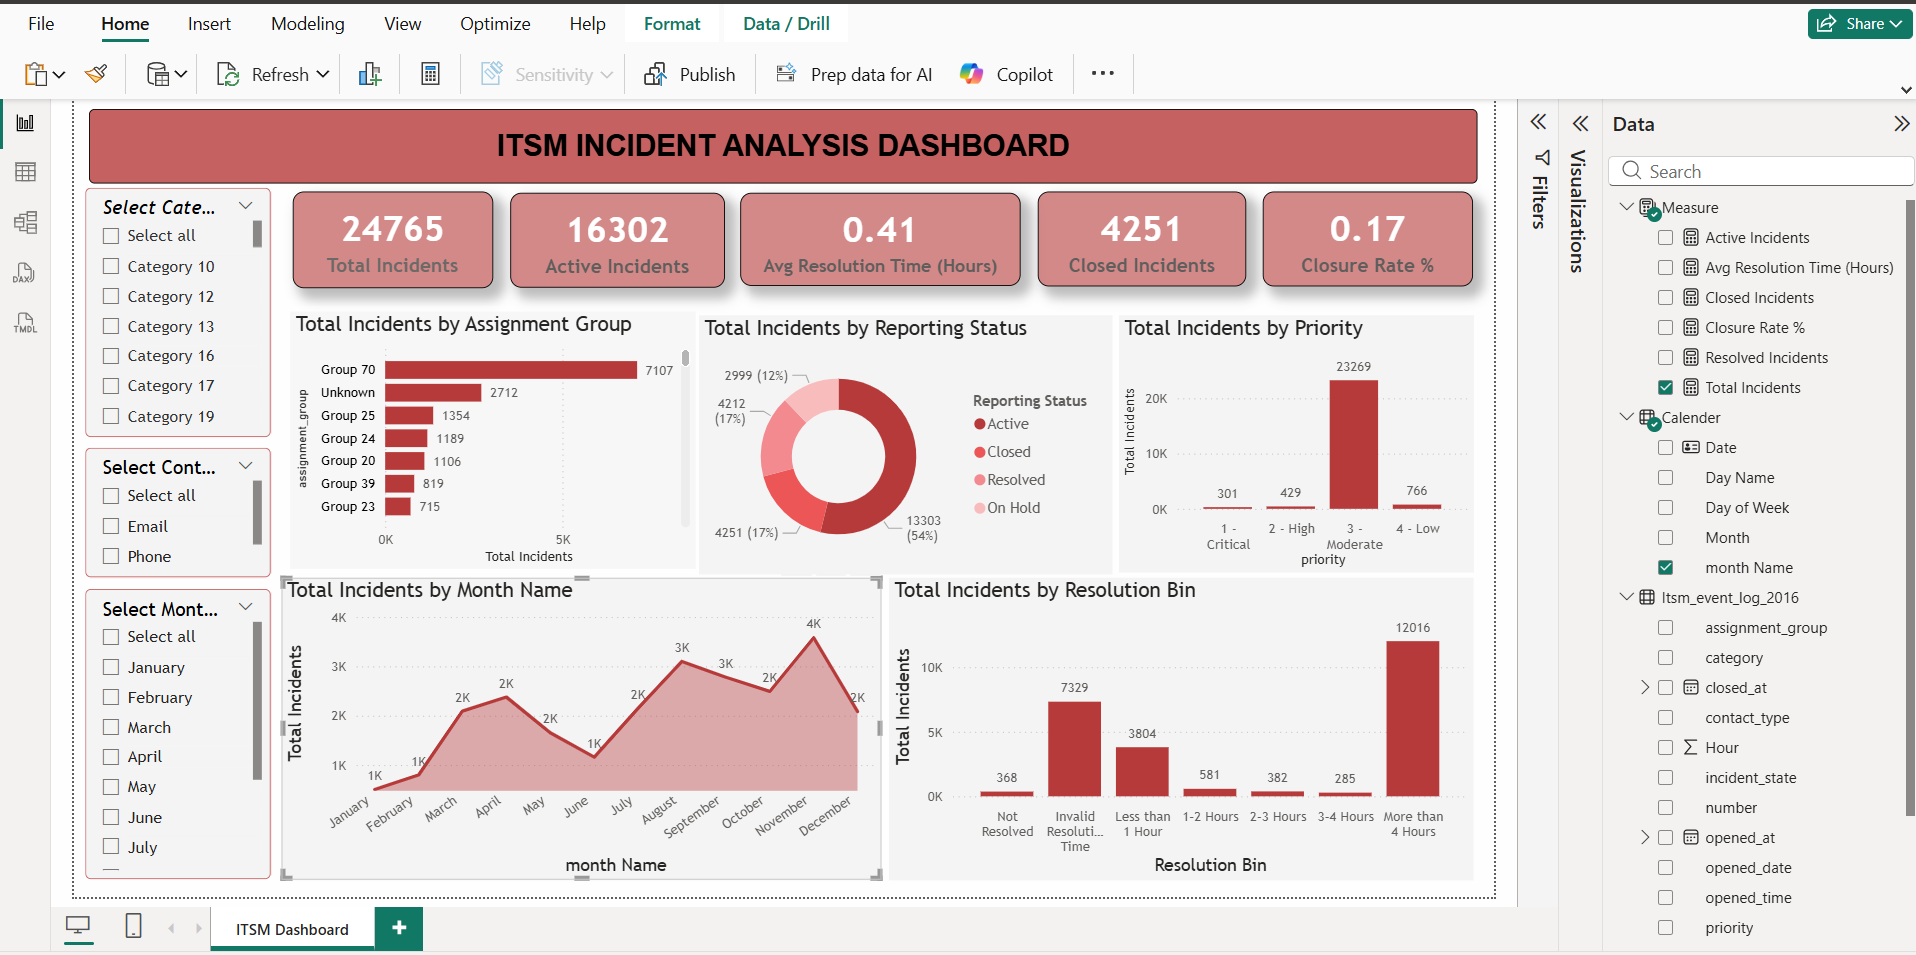

This screenshot's page, from the dashboard's own definition file:
{"tool":"powerbi","page":{"name":"ITSM Dashboard","canvas":[1280,720],"ordinal":0},"visuals":[{"type":"card","fields":{"Values":["Measure.Active Incidents"]},"box":[393.8,84.4,193.2,85.6],"z":0},{"type":"card","fields":{"Values":["Measure.Total Incidents"]},"box":[196.9,83.2,181,86.8],"z":1000},{"type":"card","fields":{"Values":["Measure.Closed Incidents"]},"box":[869.4,83.2,188.3,85.6],"z":2000},{"type":"card","fields":{"Values":["Measure.Closure Rate %"]},"box":[1072.4,83.2,189.5,85.6],"z":3000},{"type":"card","fields":{"Values":["Measure.Avg Resolution Time"]},"box":[600.4,84.4,253.1,84.4],"z":4000},{"type":"areaChart","title":"Total Incidents by Month Name","fields":{"Category":["Calender.Month Name"],"Y":["Measure.Total Incidents"]},"box":[187.1,431.7,540.5,272.7],"z":5000},{"type":"clusteredBarChart","title":"Total Incidents by Assignment Group","fields":{"Category":["Itsm_event_log_2016.assignment_group"],"Y":["Measure.Total Incidents"]},"box":[194.4,192,365.6,232.3],"z":6000},{"type":"clusteredColumnChart","title":"Total Incidents by Priority","fields":{"Category":["Itsm_event_log_2016.priority"],"Y":["Measure.Total Incidents"]},"box":[942.8,194.4,320.4,232.3],"z":7000},{"type":"donutChart","fields":{"Category":["Itsm_event_log_2016.Reporting Status"],"Y":["Measure.Total Incidents"]},"box":[563.7,194.4,373,233.6],"z":8000},{"type":"clusteredColumnChart","fields":{"Category":["Itsm_event_log_2016.Resolution Bin"],"Y":["Measure.Total Incidents"]},"box":[734.9,431.7,527,272.7],"z":9000},{"type":"slicer","fields":{"Values":["Itsm_event_log_2016.category"]},"box":[10.5,80.2,167.1,225],"z":10000},{"type":"slicer","fields":{"Values":["Itsm_event_log_2016.contact_type"]},"box":[10.5,314.4,167.1,117.1],"z":11000},{"type":"slicer","fields":{"Values":["Calender.Month Name"]},"box":[10.5,442,167.1,261.8],"z":12000},{"type":"actionButton","box":[13.2,9.2,1252.4,67.1],"z":13000}]}

Visuals, with their boxes on the page's 1280x720 design canvas (x1, y1, x2, y2). These are canvas units, not pixel positions in the 1916x955 screenshot, which may show the page scaled, cropped or inside an application window:
card - Measure.Active Incidents: (394,84,587,170)
card - Measure.Total Incidents: (197,83,378,170)
card - Measure.Closed Incidents: (869,83,1058,169)
card - Measure.Closure Rate %: (1072,83,1262,169)
card - Measure.Avg Resolution Time: (600,84,854,169)
"Total Incidents by Month Name" areaChart: (187,432,728,704)
"Total Incidents by Assignment Group" clusteredBarChart: (194,192,560,424)
"Total Incidents by Priority" clusteredColumnChart: (943,194,1263,427)
donutChart - Itsm_event_log_2016.Reporting Status x Measure.Total Incidents: (564,194,937,428)
clusteredColumnChart - Itsm_event_log_2016.Resolution Bin x Measure.Total Incidents: (735,432,1262,704)
slicer - Itsm_event_log_2016.category: (10,80,178,305)
slicer - Itsm_event_log_2016.contact_type: (10,314,178,432)
slicer - Calender.Month Name: (10,442,178,704)
actionButton: (13,9,1266,76)
